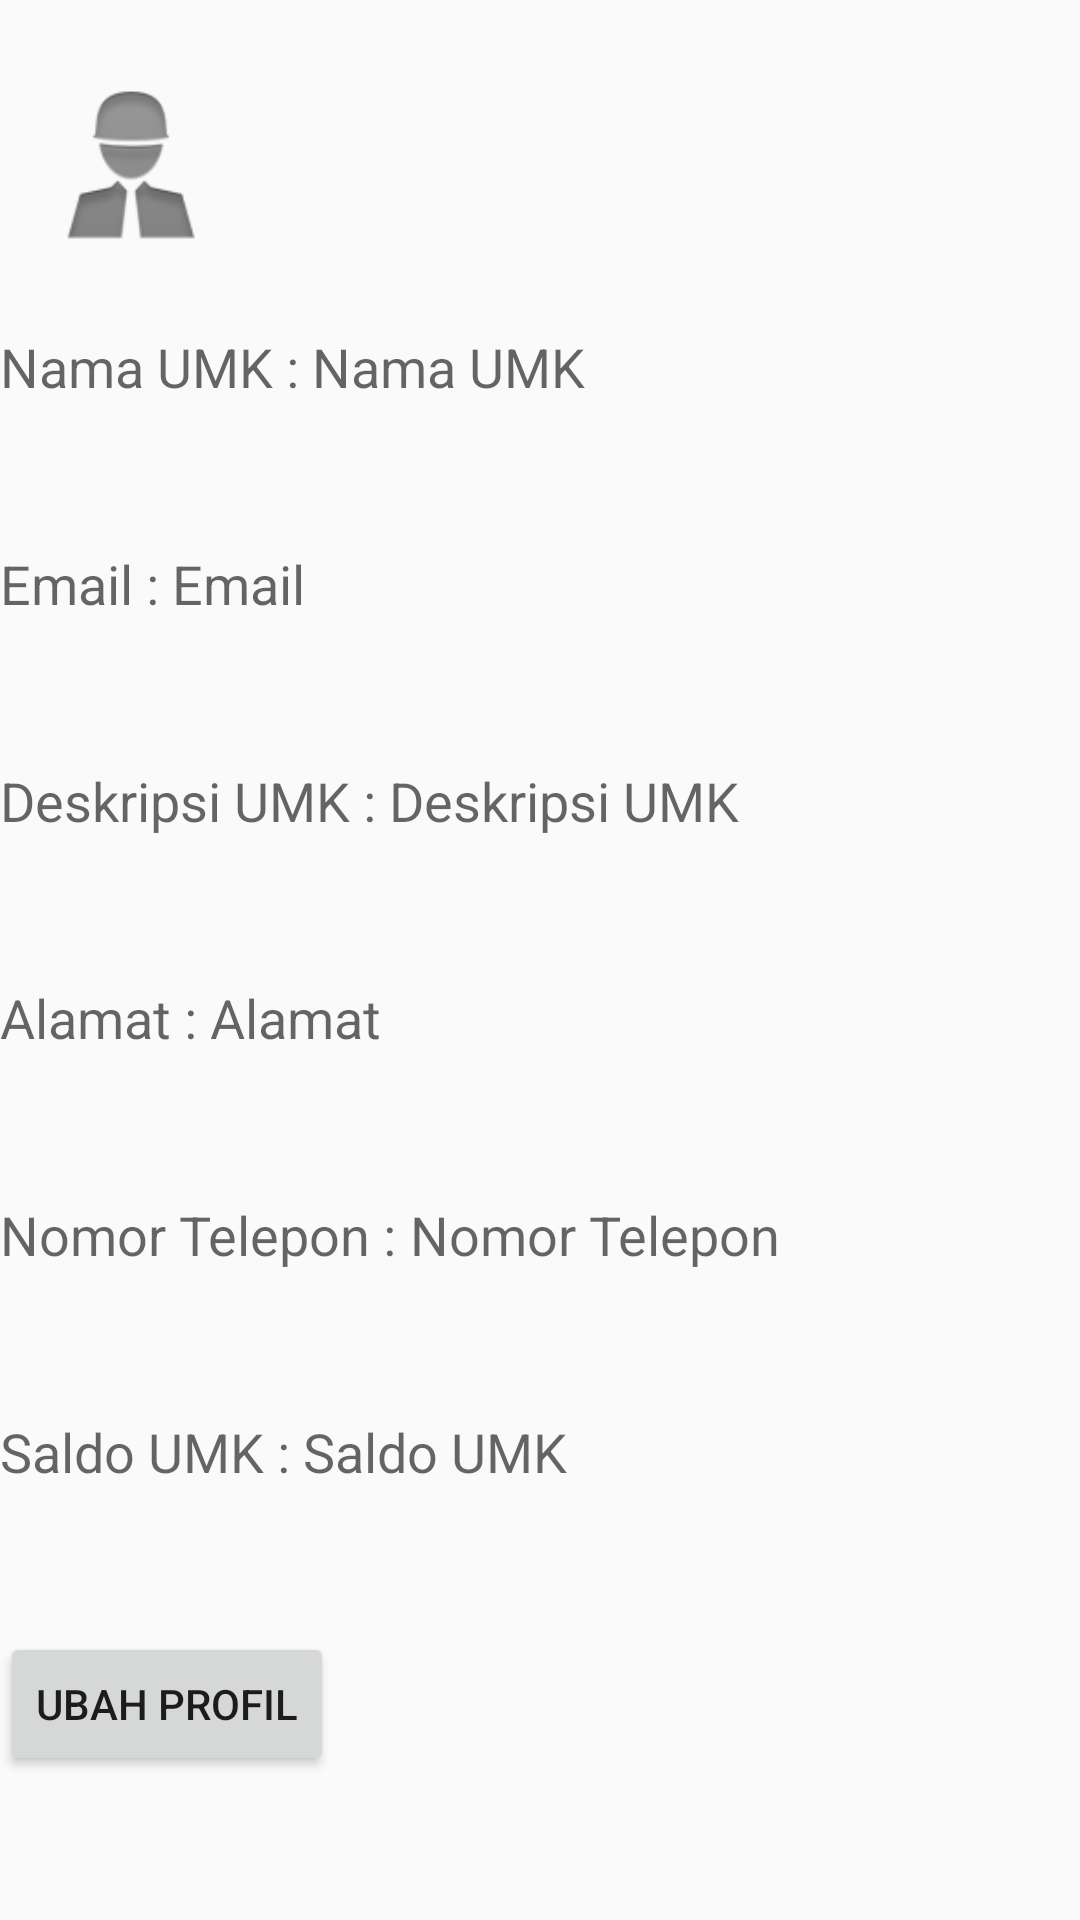

Screen size 1080 × 1920. Icon name, then its box in pixels as (x1, y1, x2, y2):
profile: (67, 91, 195, 239)
